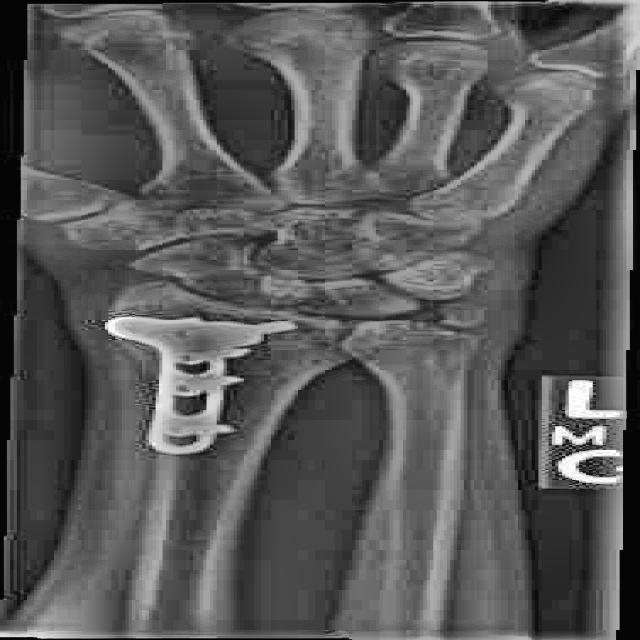wrist positive: (221, 318, 422, 378)
